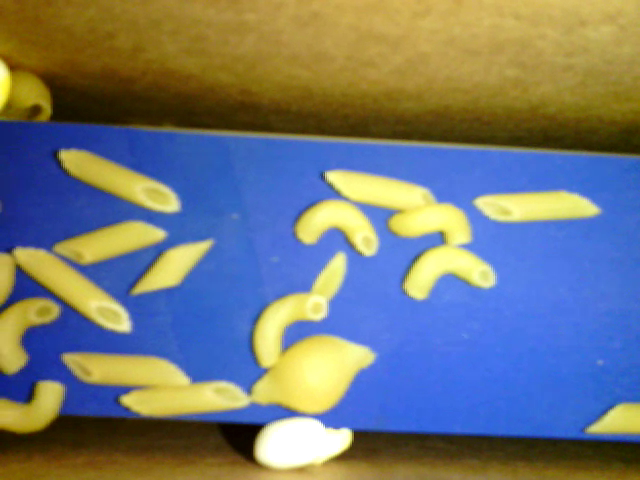penne: (17, 246, 130, 338), (57, 147, 183, 214), (48, 217, 167, 265), (323, 166, 437, 215), (131, 238, 215, 297), (60, 351, 200, 386), (117, 380, 249, 417), (471, 190, 605, 225), (584, 398, 638, 439)
shell: (252, 334, 375, 413), (5, 71, 59, 130)
tortellini: (250, 291, 332, 371), (405, 243, 493, 304), (293, 199, 378, 259), (1, 295, 57, 373), (385, 203, 478, 245), (1, 378, 67, 435)
